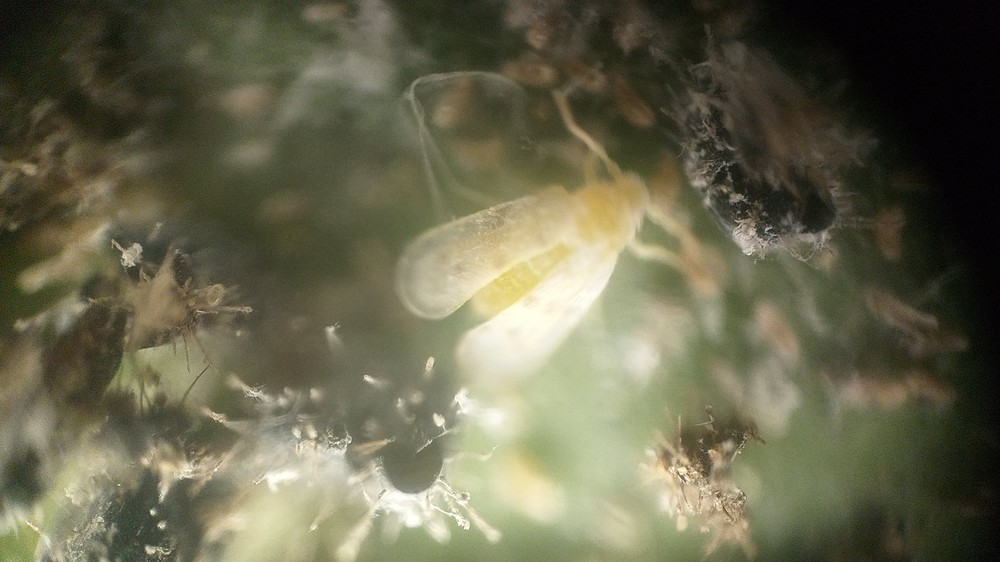Mosca Blanca: (381, 89, 719, 409)
